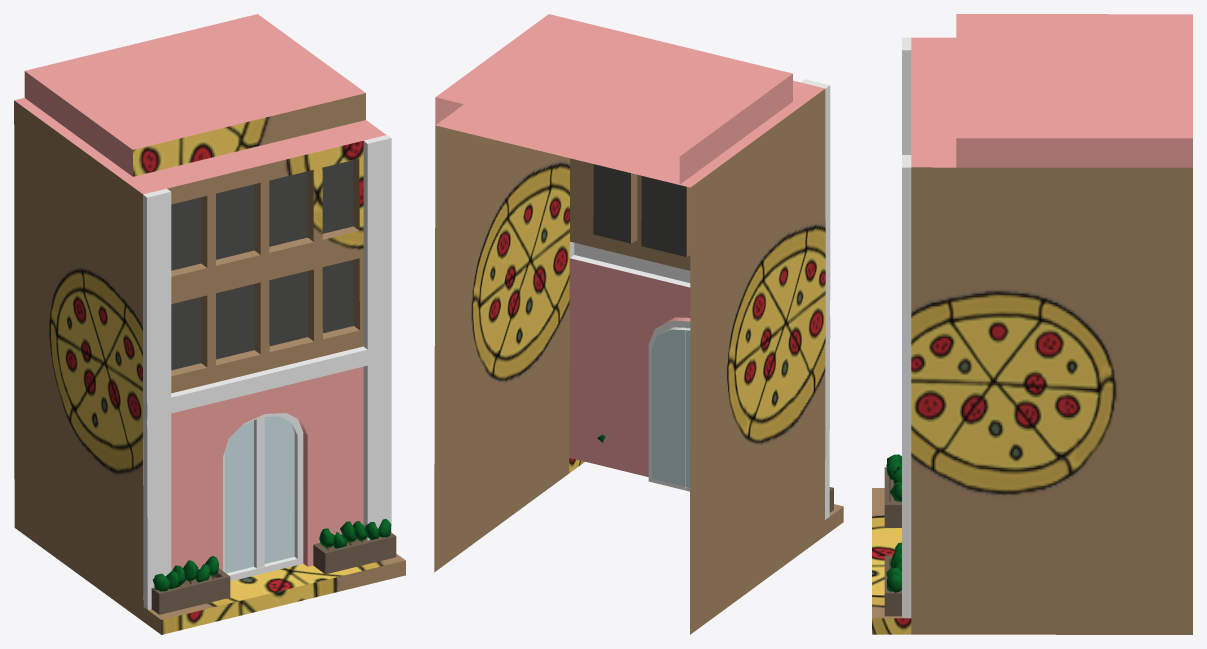
Rendered from building_6.fbx.
3 views of the same model, side by side, from view 1: azimuth 30°, elevation 25°; view 2: azimuth 150°, elevation 25°; view 3: azimuth 270°, elevation 25° (orthographic). The views are drawn at different scales.
Parts seen in each view (by area): view 1: building_6; view 2: building_6; view 3: building_6.
Part boxes in pixels (x1,y1,x2,y2): building_6: (14,14,405,634); building_6: (434,14,843,634); building_6: (872,14,1192,634).
Bounding box in the file's own units: 390 × 691 × 405.
1 material, 1 textured.
